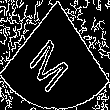M_NE: (30, 20, 80, 90)
